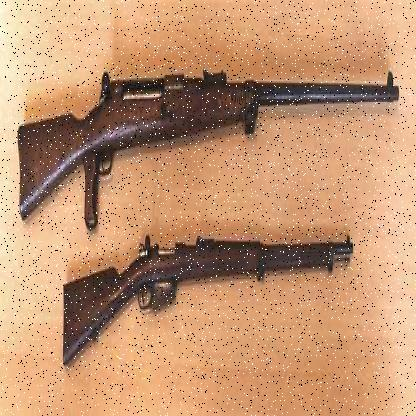rifle: (1, 0, 393, 223), (57, 204, 360, 392)
